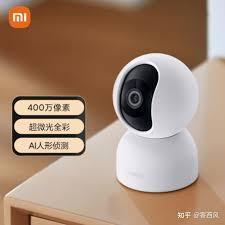maru: (111, 53, 199, 137)
